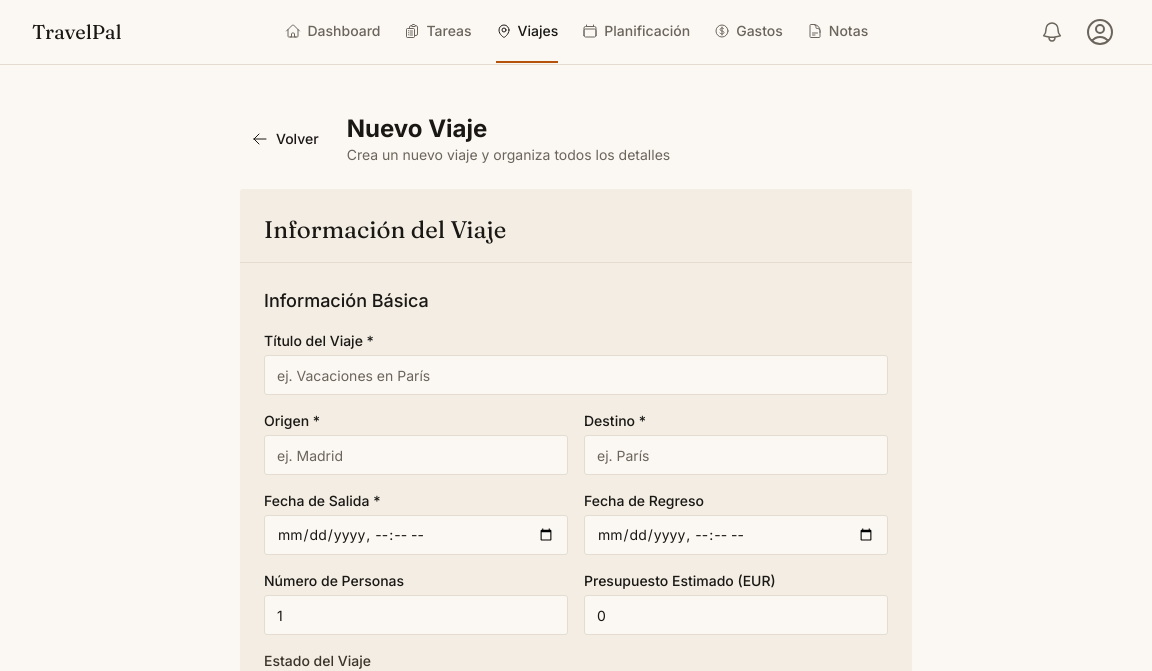
Test: NewTripPage › handles timeout correctly
The width and height of the screenshot is (1152, 671).
In the field labelled "Título del Viaje *": (576, 375) [264,355,888,395], type "Test Trip"
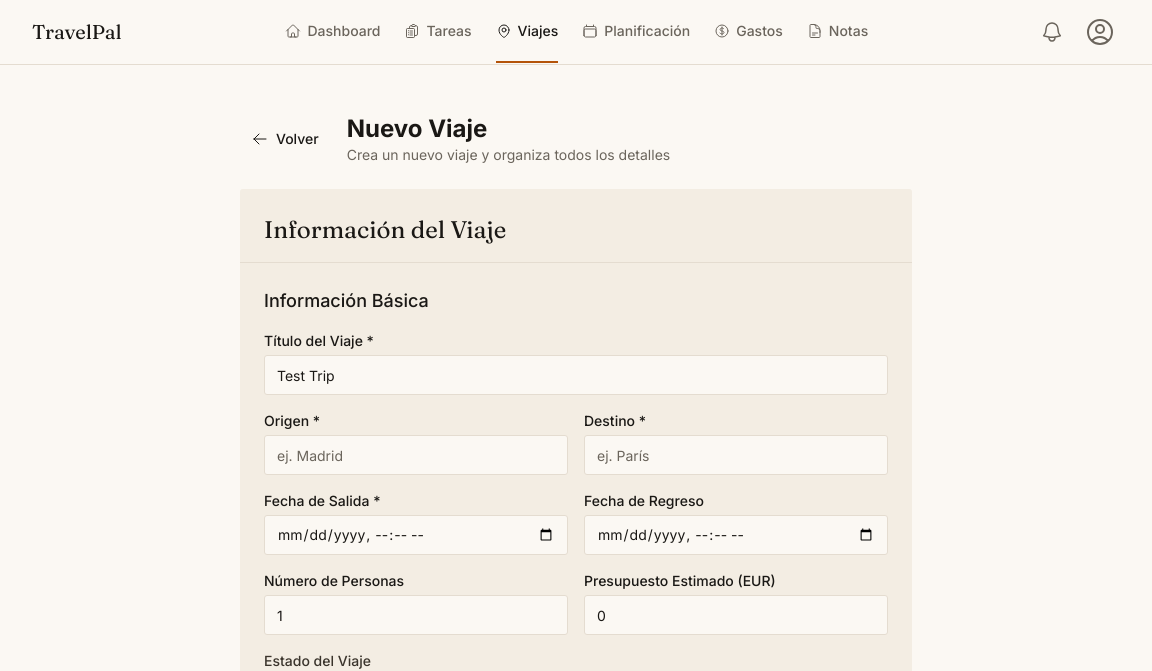
In the field labelled "Origen *": (416, 455) [264,435,568,475], type "Madrid"
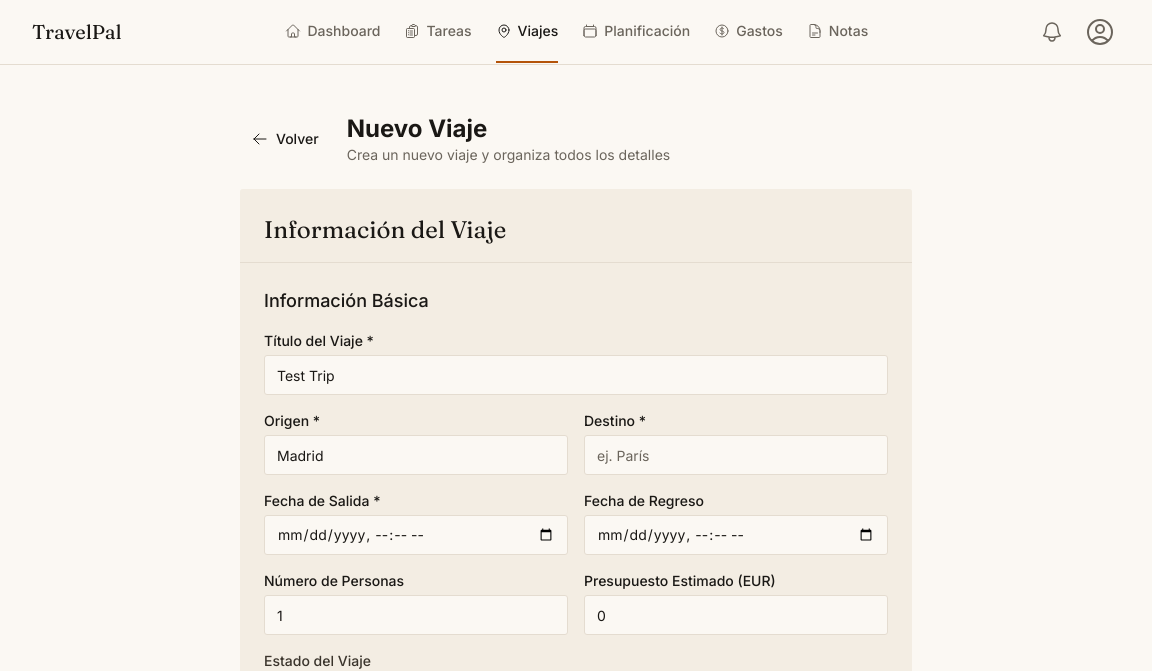
In the field labelled "Destino *": (736, 455) [584,435,888,475], type "Paris"
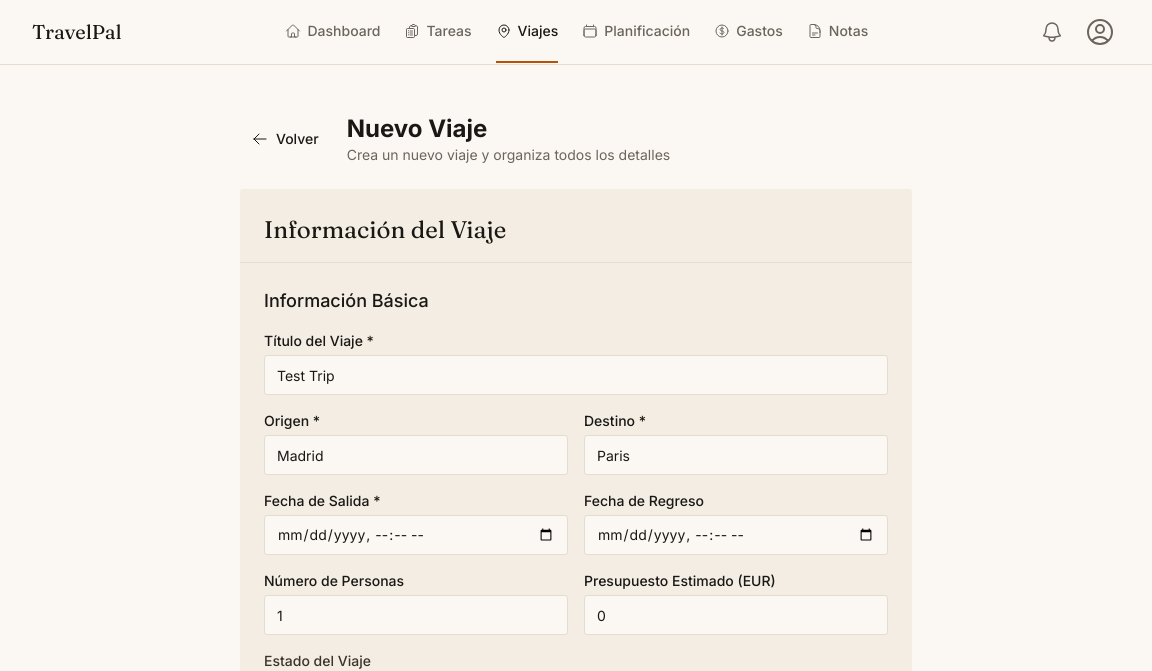
In the field labelled "Fecha de Salida *": (416, 535) [264,515,568,555], type "2025-01-01T10:00"
(page scrolled)
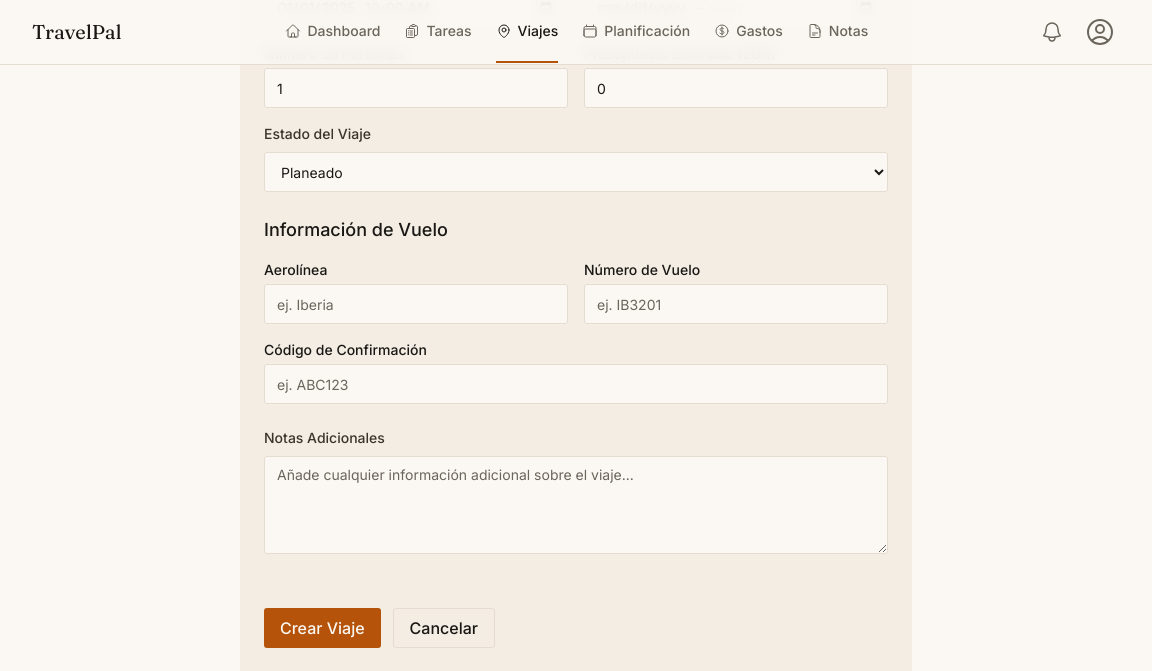
Click the button "Crear Viaje": (322, 628) [264,608,381,648]
Wait 16000 ms
(page scrolled)
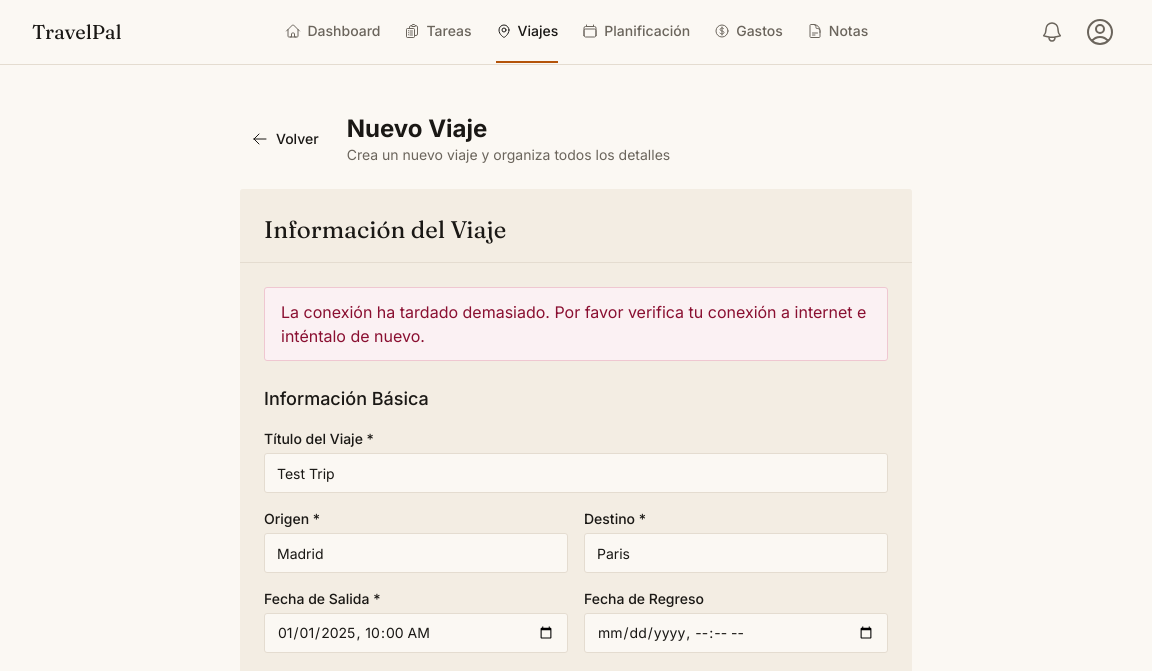
Check: the text "La conexión ha tardado demasiado" is shown, box [281,302,866,346]
